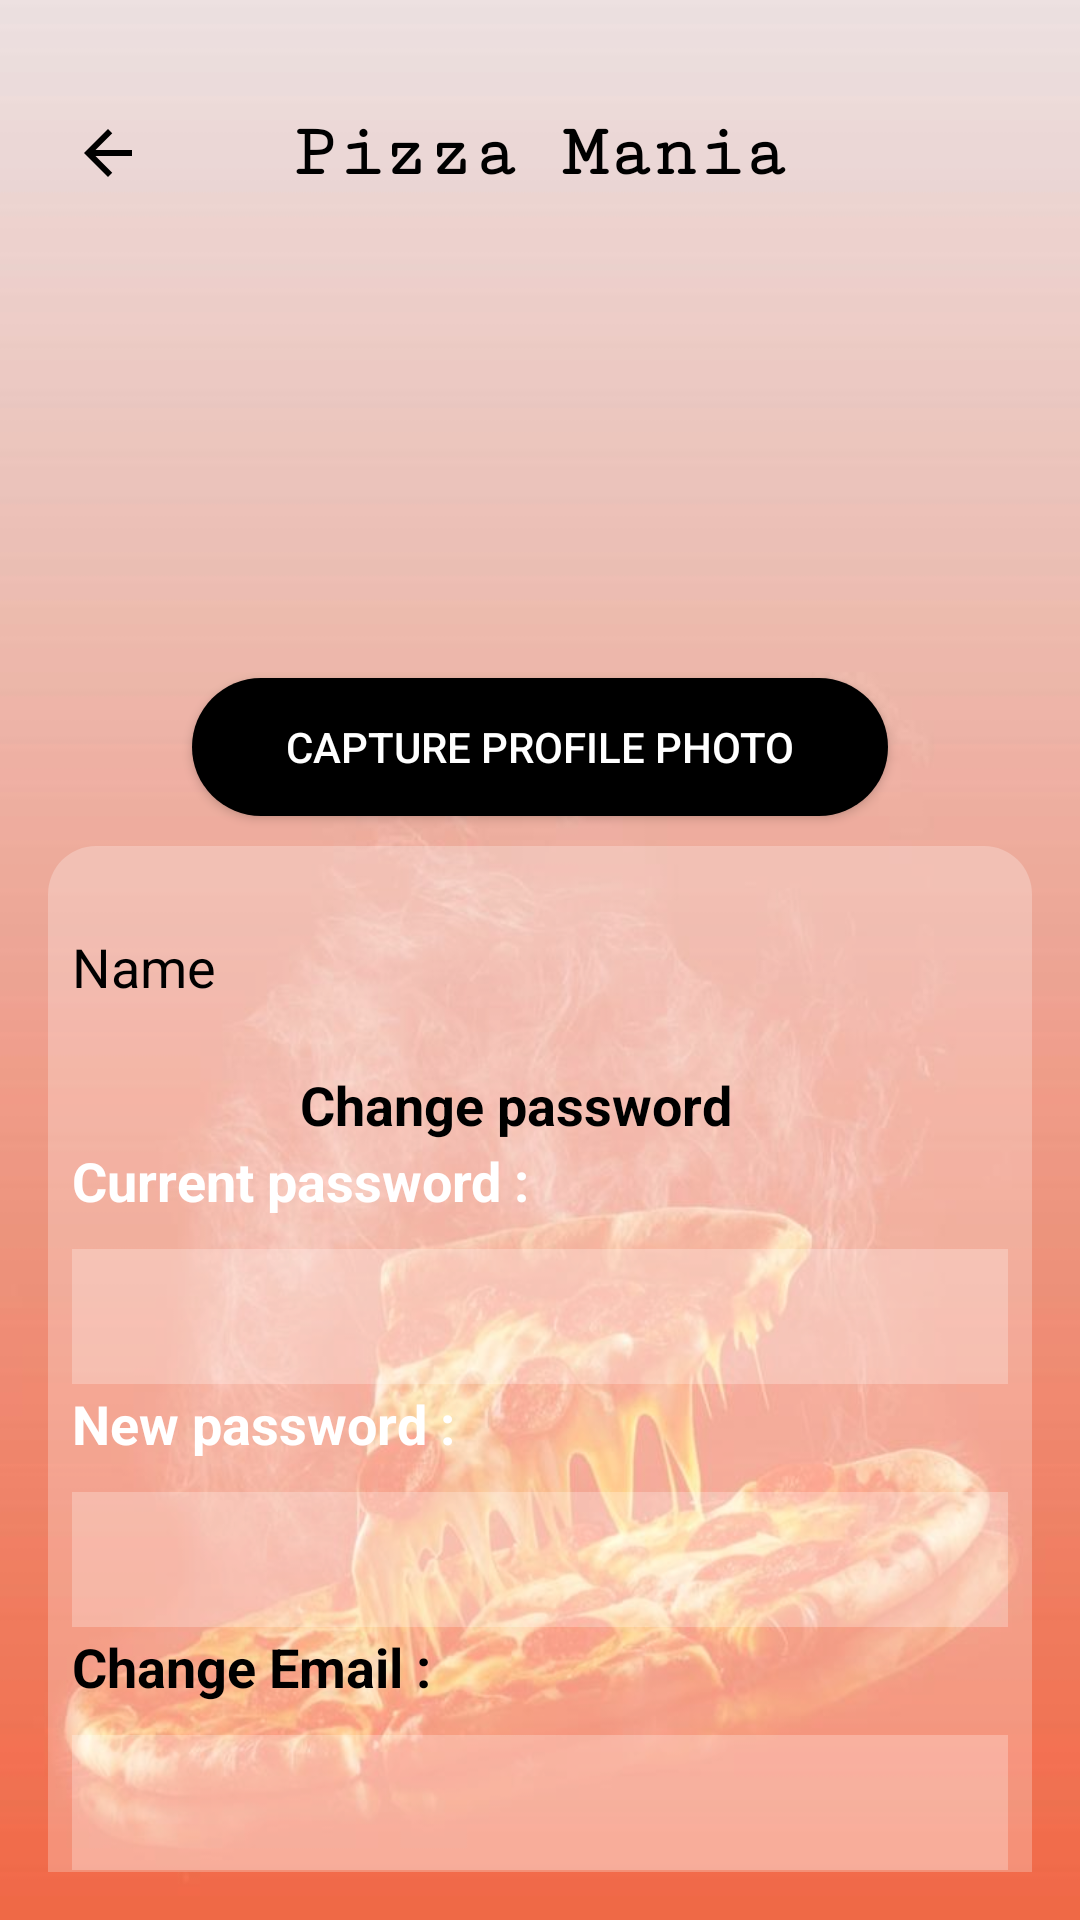

Screen size 1080*1920. Icon name, then its center in pixels as point (x, y):
Back: point (108, 153)
